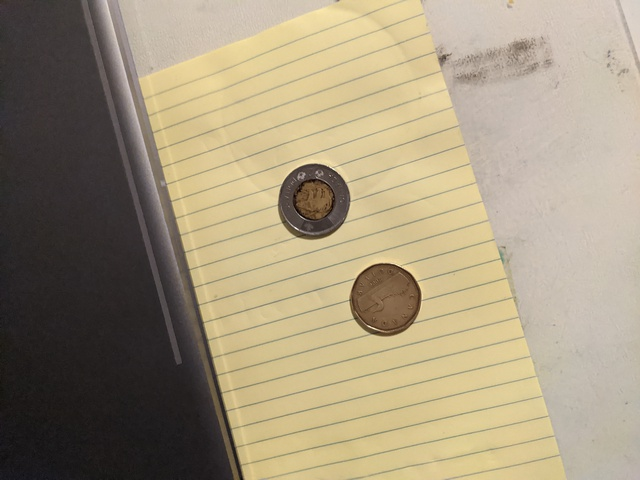loonie: (336, 245, 429, 335)
twonie: (282, 166, 344, 247)
